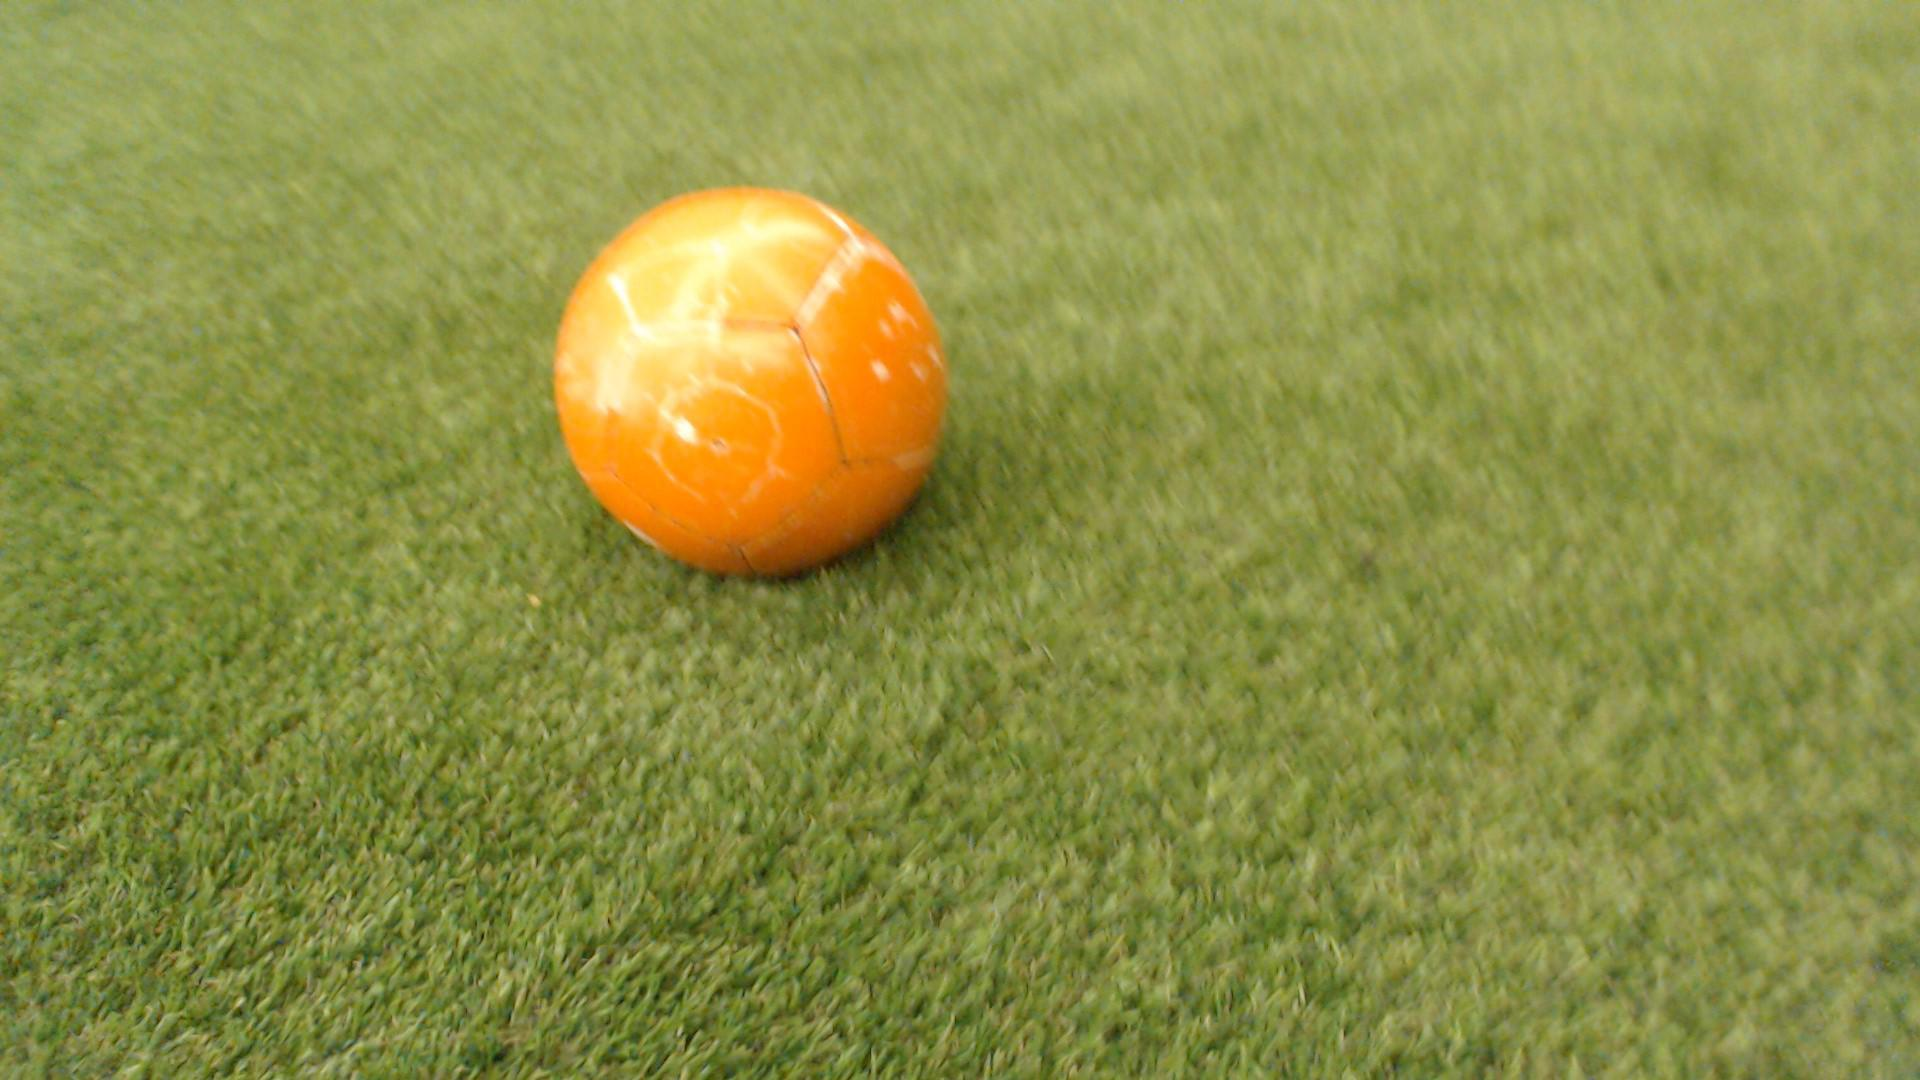bola: (521, 136, 996, 617)
